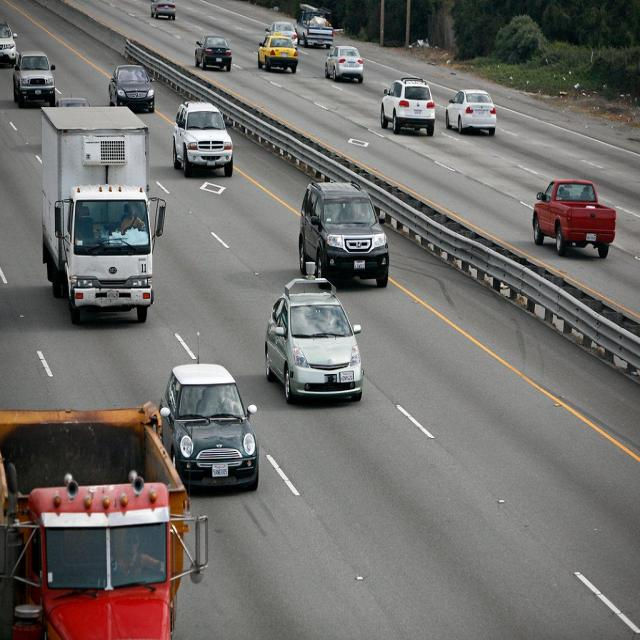Truck: (1, 406, 206, 640), (43, 104, 164, 318)
car: (156, 360, 262, 490), (262, 276, 364, 402), (293, 181, 393, 287), (530, 179, 614, 257), (174, 97, 236, 176), (378, 76, 436, 136), (445, 84, 497, 134), (105, 61, 156, 109), (12, 50, 54, 100), (325, 41, 364, 80), (192, 34, 233, 68), (0, 18, 18, 61)
